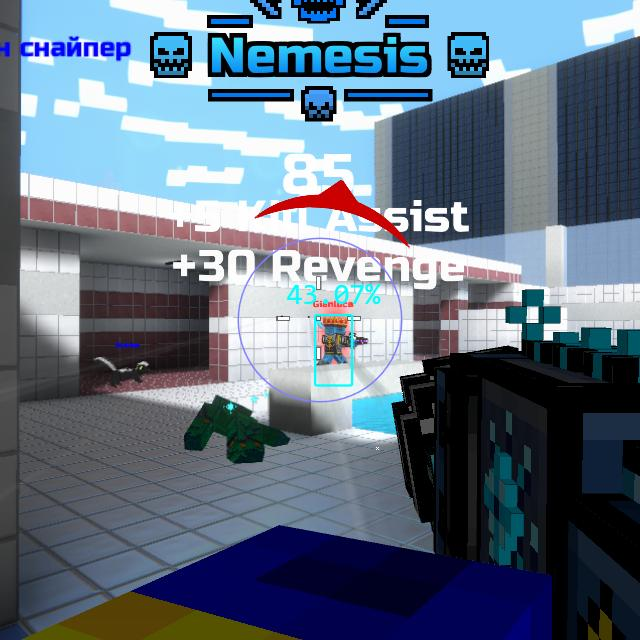Enemy: (322, 318, 351, 363)
